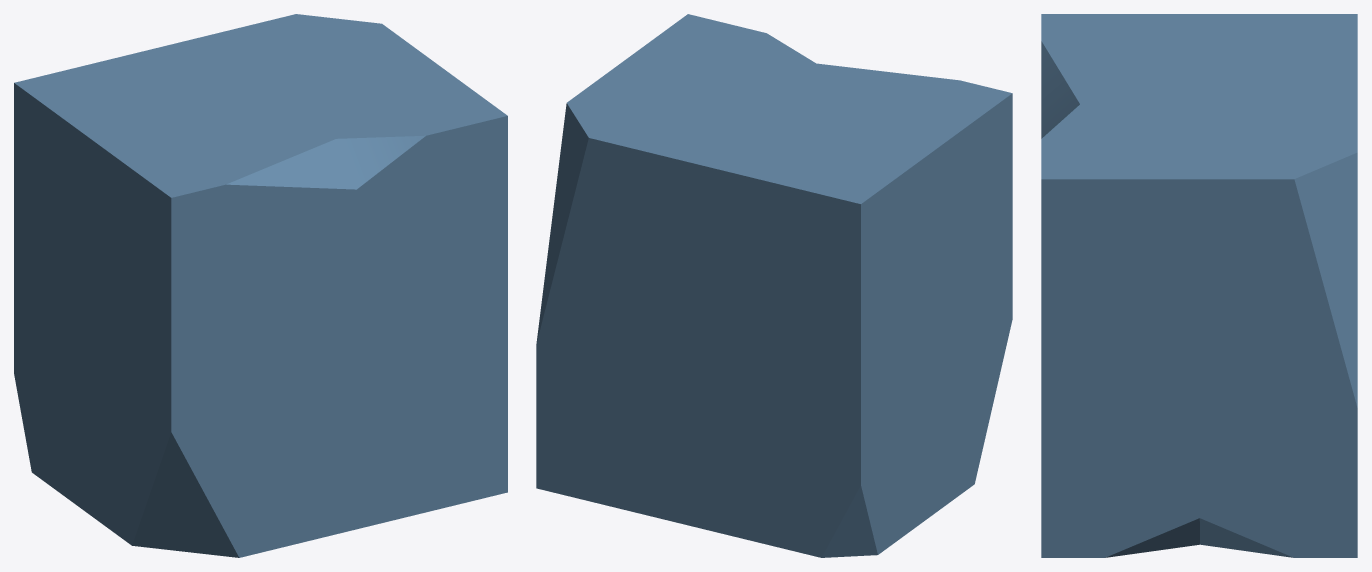
Rendered from Mesh_PiedraGrande_v02.fbx.
3 renders of one model, left to right at view 1: azimuth 30°, elevation 25°; view 2: azimuth 150°, elevation 25°; view 3: azimuth 270°, elevation 25°, orthographic. The views are drawn at different scales.
Visible parts, largest first — view 1: Mesh_PiedraGrande_v02; view 2: Mesh_PiedraGrande_v02; view 3: Mesh_PiedraGrande_v02.
Part boxes in pixels (x1,y1,x2,y2): Mesh_PiedraGrande_v02: [14, 14, 507, 557]; Mesh_PiedraGrande_v02: [536, 14, 1012, 557]; Mesh_PiedraGrande_v02: [1041, 14, 1357, 557].
Bounding box in the file's own units: 2.47 × 2.64 × 2.
